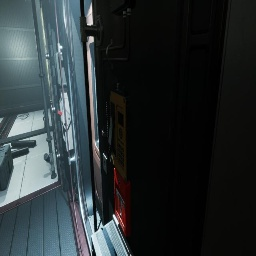EmergencyPhone ,: (105, 68, 131, 182)
FireAlarm ,: (114, 167, 131, 237)
SafetySwitchPanel ,: (58, 88, 74, 152)
